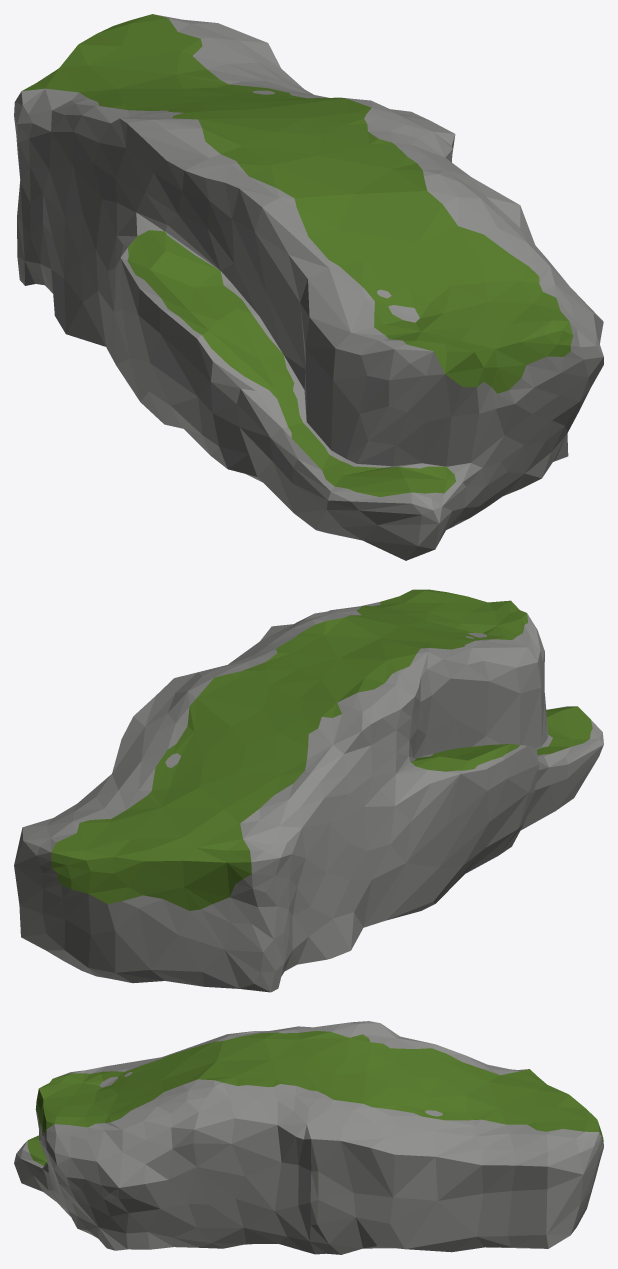
The model's file is Cavern_FloorGrass_Narrow_Bump-01.fbx.
3 renders of one model, top to bottom at view 1: azimuth 30°, elevation 25°; view 2: azimuth 150°, elevation 25°; view 3: azimuth 270°, elevation 25°, orthographic. The views are drawn at different scales.
Parts seen in each view (by area): view 1: Cavern_FloorGrass_Narrow_Bump-01; view 2: Cavern_FloorGrass_Narrow_Bump-01; view 3: Cavern_FloorGrass_Narrow_Bump-01.
Part boxes in pixels (x1,y1,x2,y2): Cavern_FloorGrass_Narrow_Bump-01: (14,14,603,560); Cavern_FloorGrass_Narrow_Bump-01: (14,589,603,992); Cavern_FloorGrass_Narrow_Bump-01: (14,1021,603,1254).
Bounding box in the file's own units: 885 × 626 × 2014.
1 material, 1 textured.
